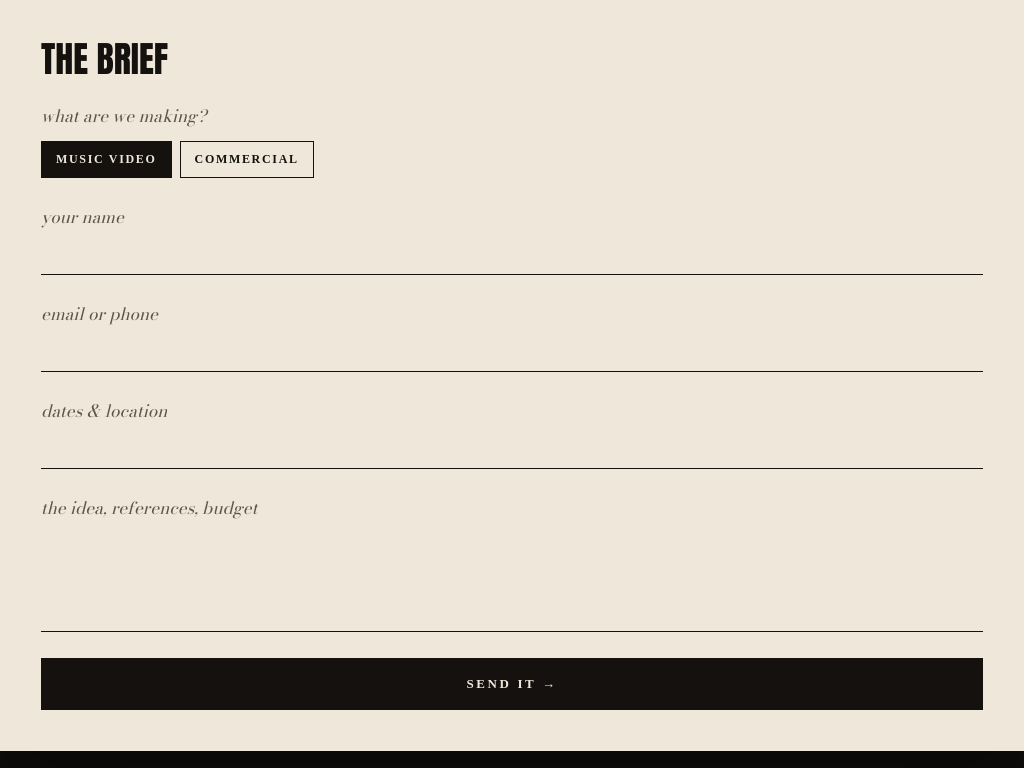
BriefForm › shows server field errors inline
Type "Asha" into the field labelled "your name".
click(512, 256); type("Asha")  # box top-left (41, 236), bottom-right (983, 275)
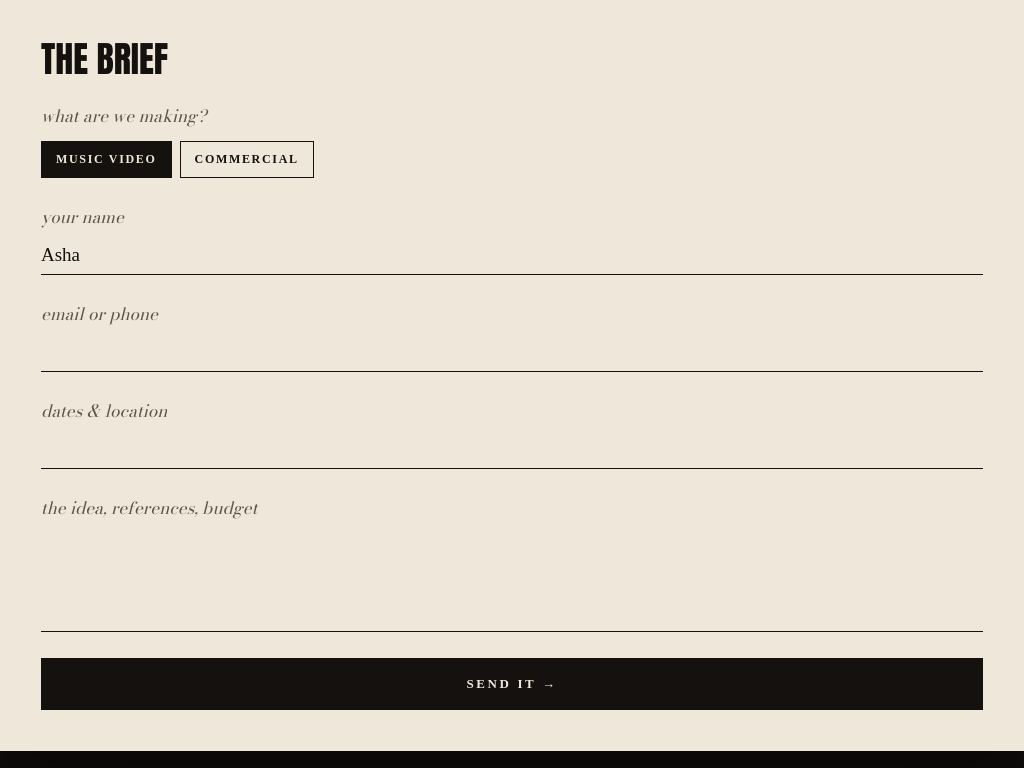
Type "asha@example.com" into the field labelled "email or phone".
click(512, 352); type("asha@example.com")  # box top-left (41, 333), bottom-right (983, 372)
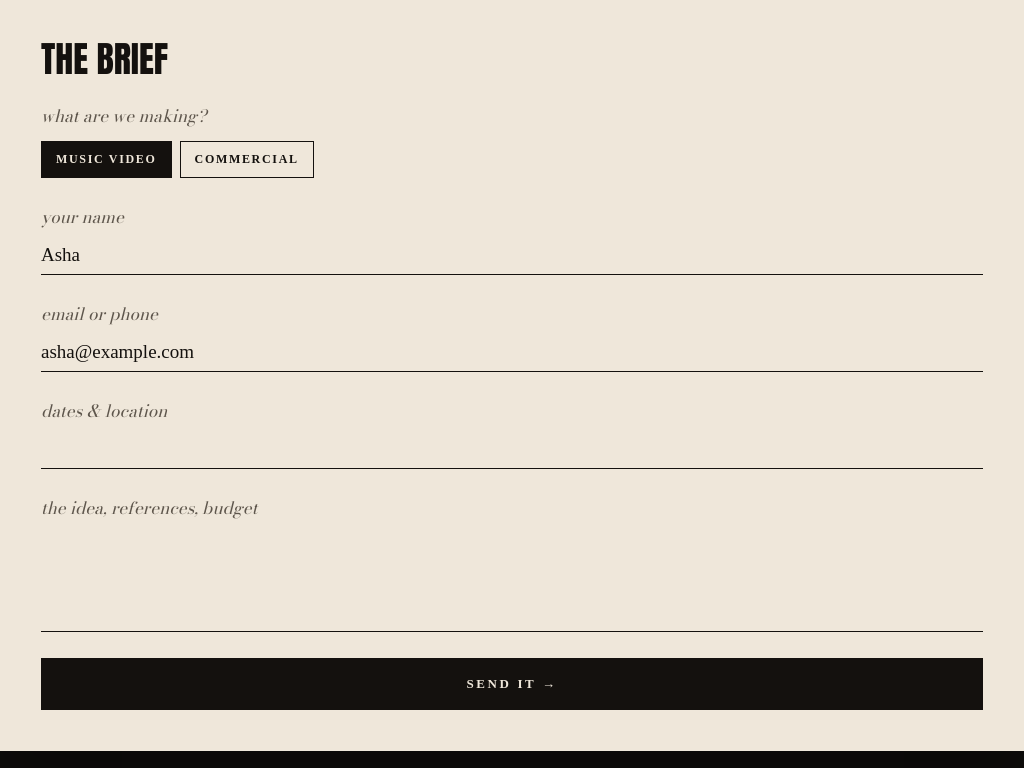
Click the button "Send it →".
click(512, 684)  # box top-left (41, 658), bottom-right (983, 710)
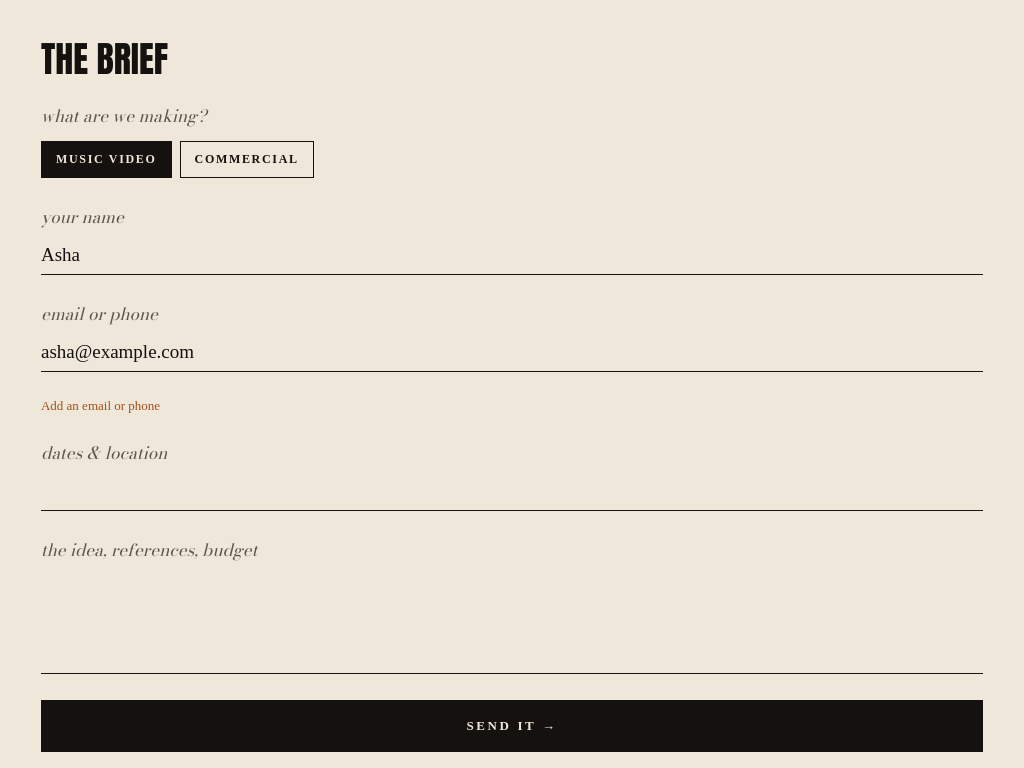
expect the text "Add an email or phone" is shown: met, box top-left (41, 398), bottom-right (160, 413)
